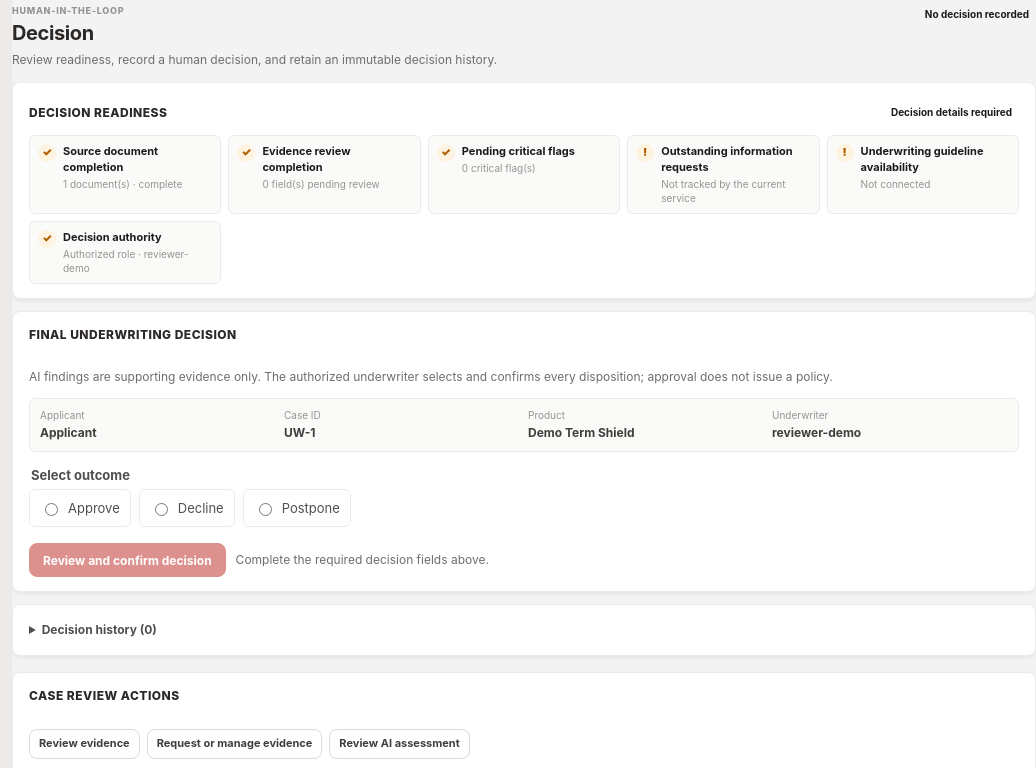
Test case: decision cockpit approve defaults › keeps both empty for cases without a catalogue product
The width and height of the screenshot is (1036, 768).
Click the radio button labelled "Approve" at [52, 510], box [45,503,58,516]
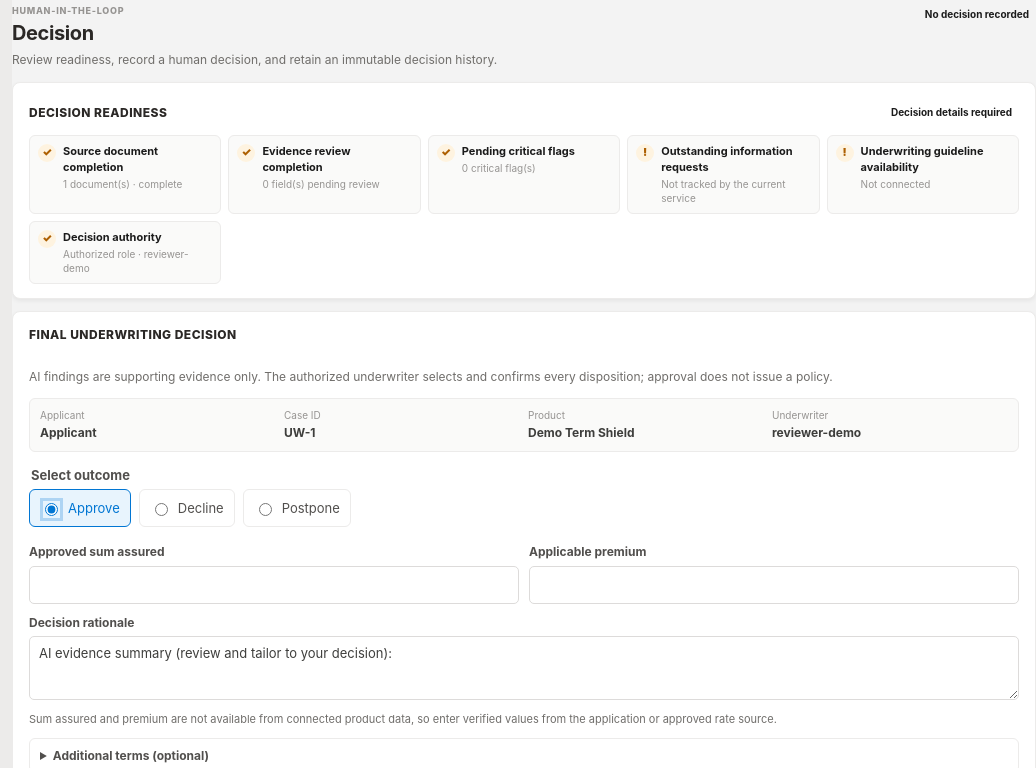
Now the number field labelled "Approved sum assured" is not empty, box [29,566,519,604]
Now the number field labelled "Applicable premium" is not empty, box [529,566,1019,604]
Now the text "not available from connected product data" is shown, box [29,712,777,726]
